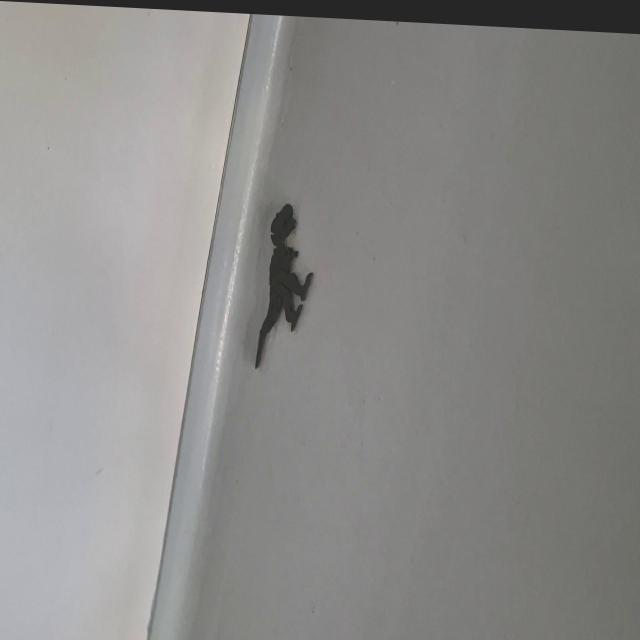dino: (255, 201, 314, 372)
